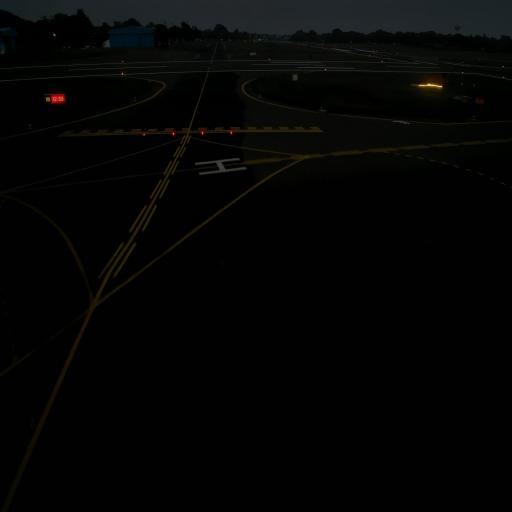on: (198, 123, 206, 138), (169, 128, 177, 142), (226, 127, 235, 138), (140, 130, 147, 142)
